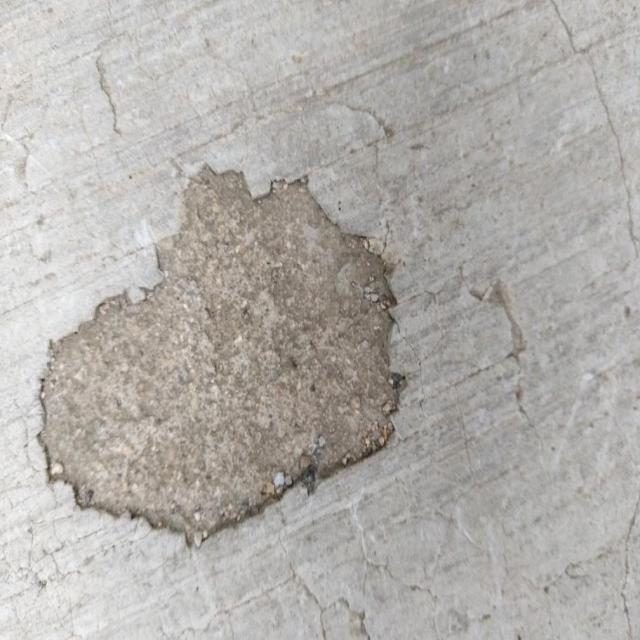concrete spalling: (34, 162, 407, 548)
diagonal crack: (165, 35, 392, 160), (552, 0, 639, 260), (94, 48, 122, 140)
multi-branched crack: (158, 256, 612, 639), (5, 400, 112, 639)
vertical crack: (618, 497, 640, 639)
